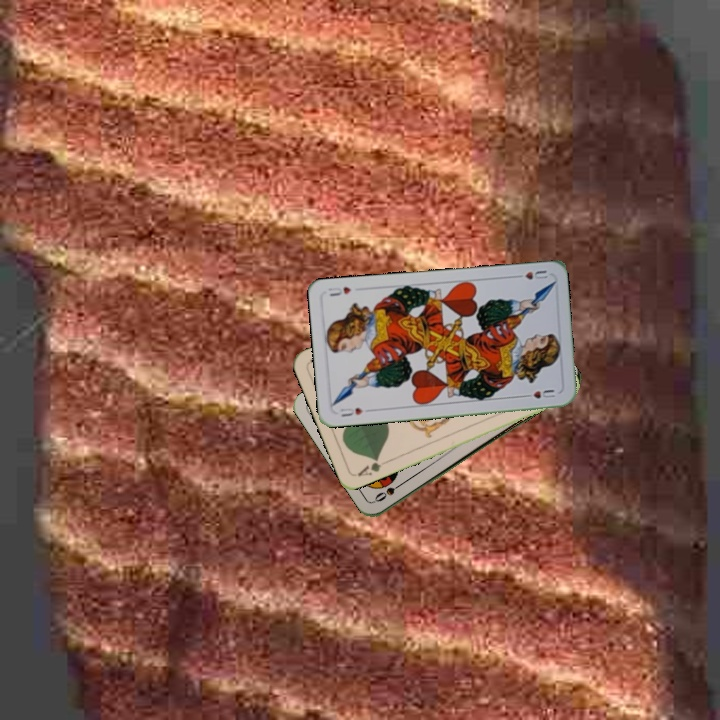GA: (353, 454, 391, 479)
HU: (511, 266, 550, 282), (336, 404, 366, 419)
SO: (370, 477, 407, 505)
